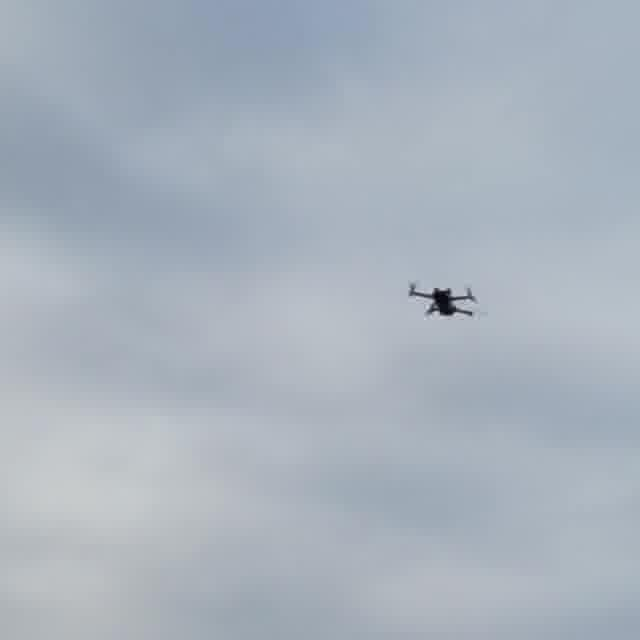Drohne: (408, 283, 476, 316)
